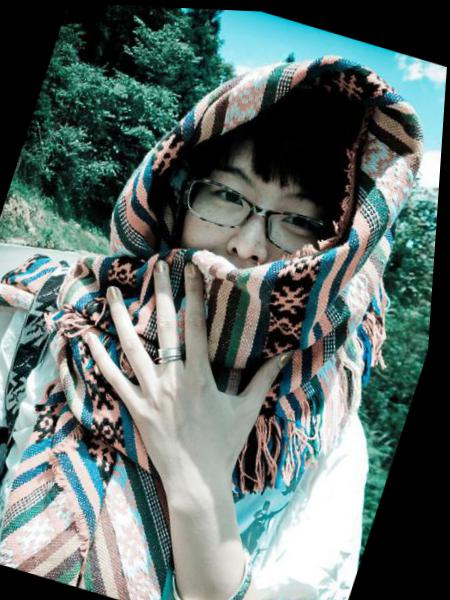WRONG: (150, 137, 367, 350)
